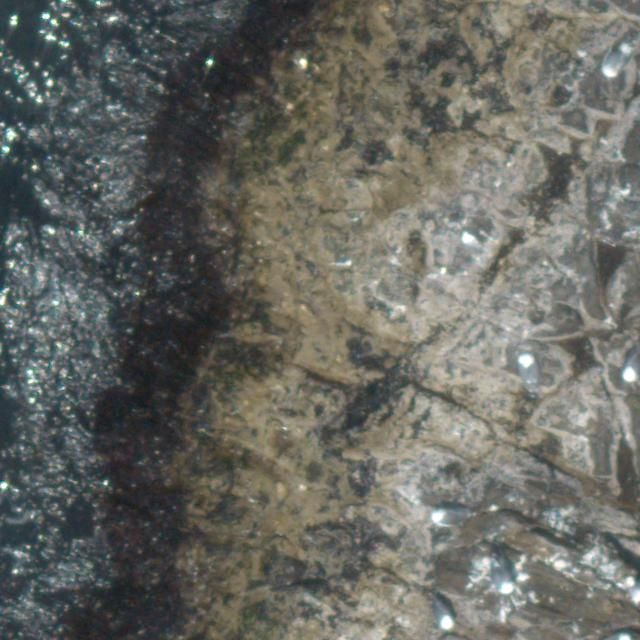umineko: (491, 550, 518, 596), (603, 46, 627, 75), (432, 508, 468, 525), (622, 348, 640, 380), (520, 354, 537, 387), (436, 602, 454, 628)
